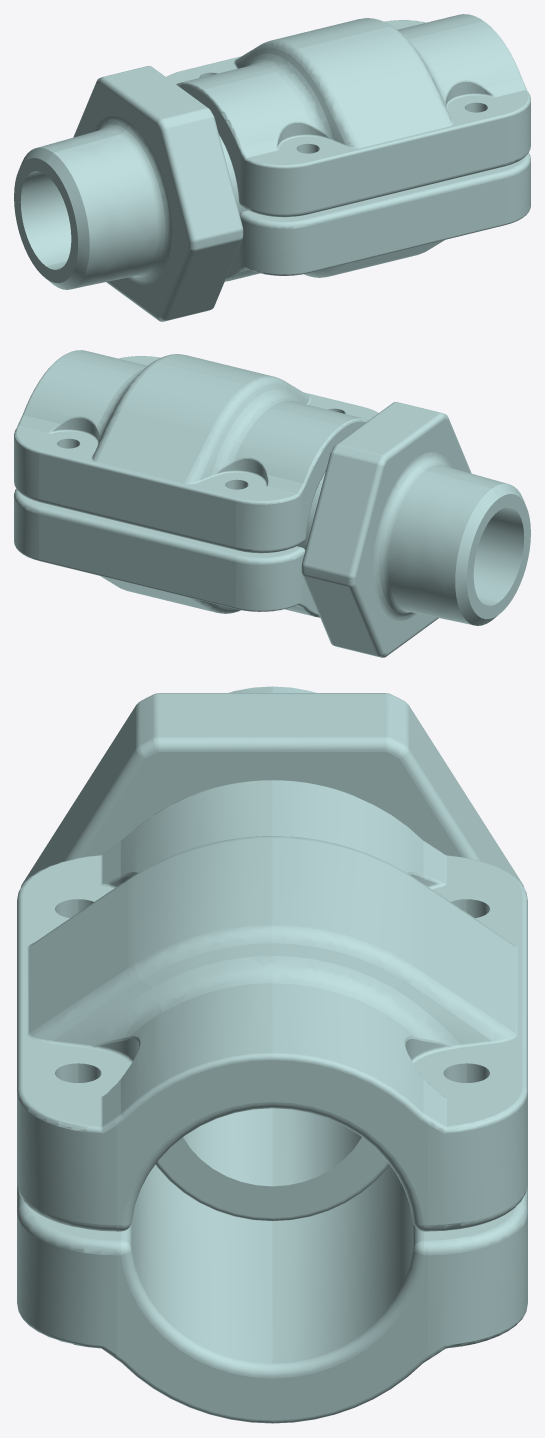
3 renders of one model, top to bottom at view 1: azimuth 30°, elevation 25°; view 2: azimuth 150°, elevation 25°; view 3: azimuth 270°, elevation 25°, orthographic. The views are drawn at different scales.
Size of the model in its own units: 91.41 by 43.8 by 46.
